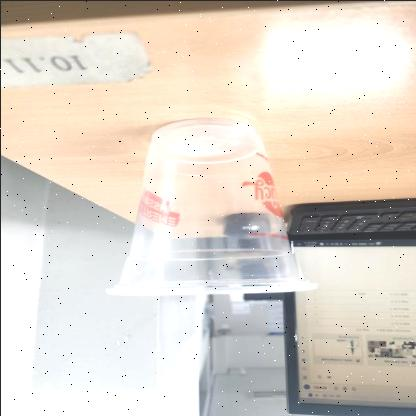Others: (105, 116, 317, 296)
